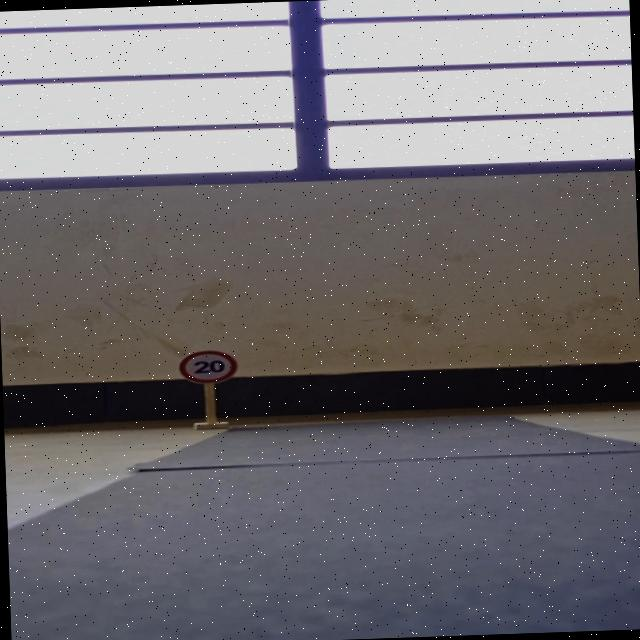Speed20: (174, 346, 240, 386)
